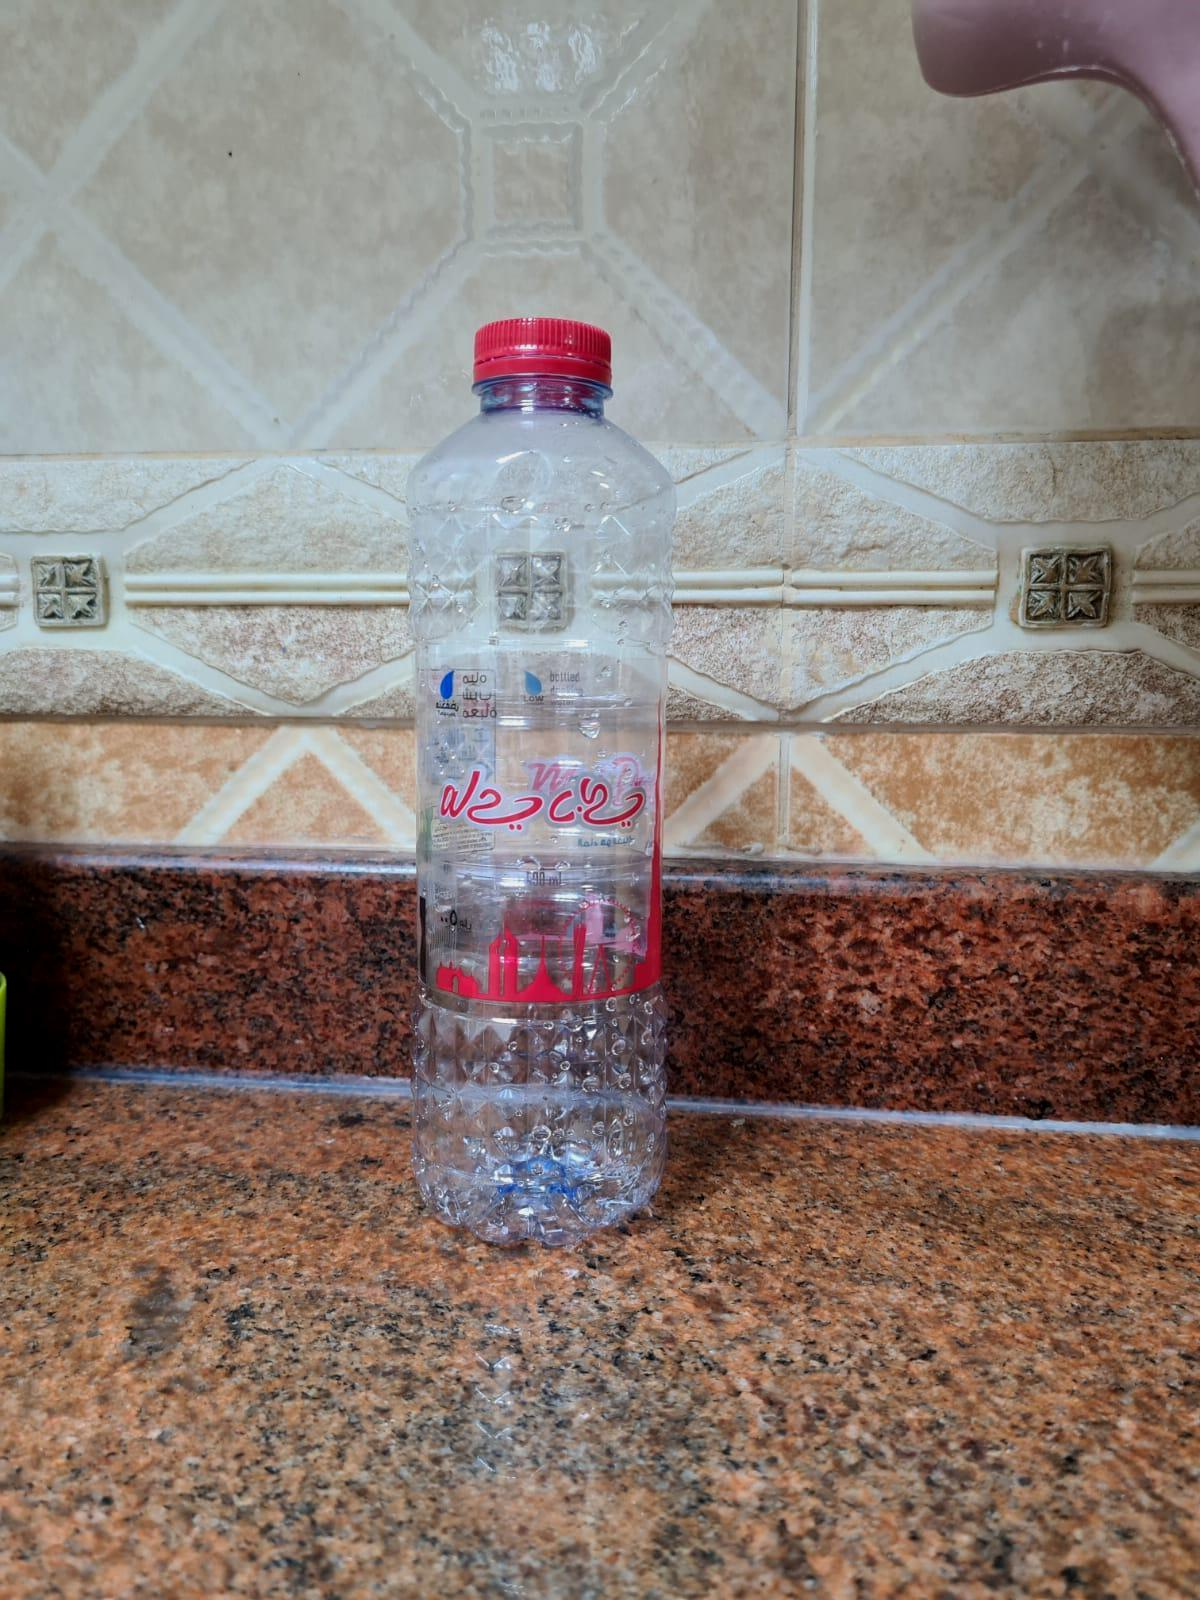bottle: (393, 314, 682, 1259)
